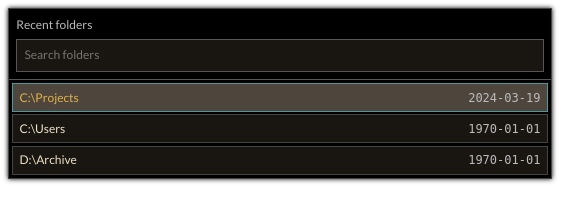
Scenario: RecentFoldersPopover › filters entries using the search query
Type "archive" into the field with placeholder "Search folders" at [280, 55], box [16,39,544,72]
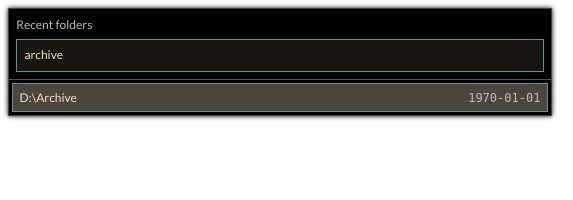
Check: the button "D:\\Archive 1970-01-01" is shown, box [12,83,548,112]
Check: the button "C:\\Projects" is gone
